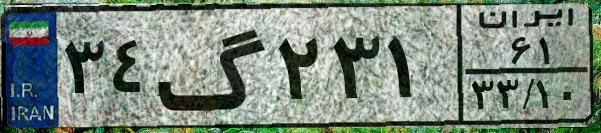0: (560, 70, 590, 125)
1: (385, 28, 445, 110), (537, 27, 568, 80), (535, 70, 560, 125)
2: (270, 28, 330, 110)
3: (330, 28, 385, 110), (57, 26, 110, 100), (470, 70, 495, 125), (495, 70, 520, 125)
4: (110, 28, 156, 98)
6: (508, 27, 537, 80)
گ: (156, 12, 270, 120)
